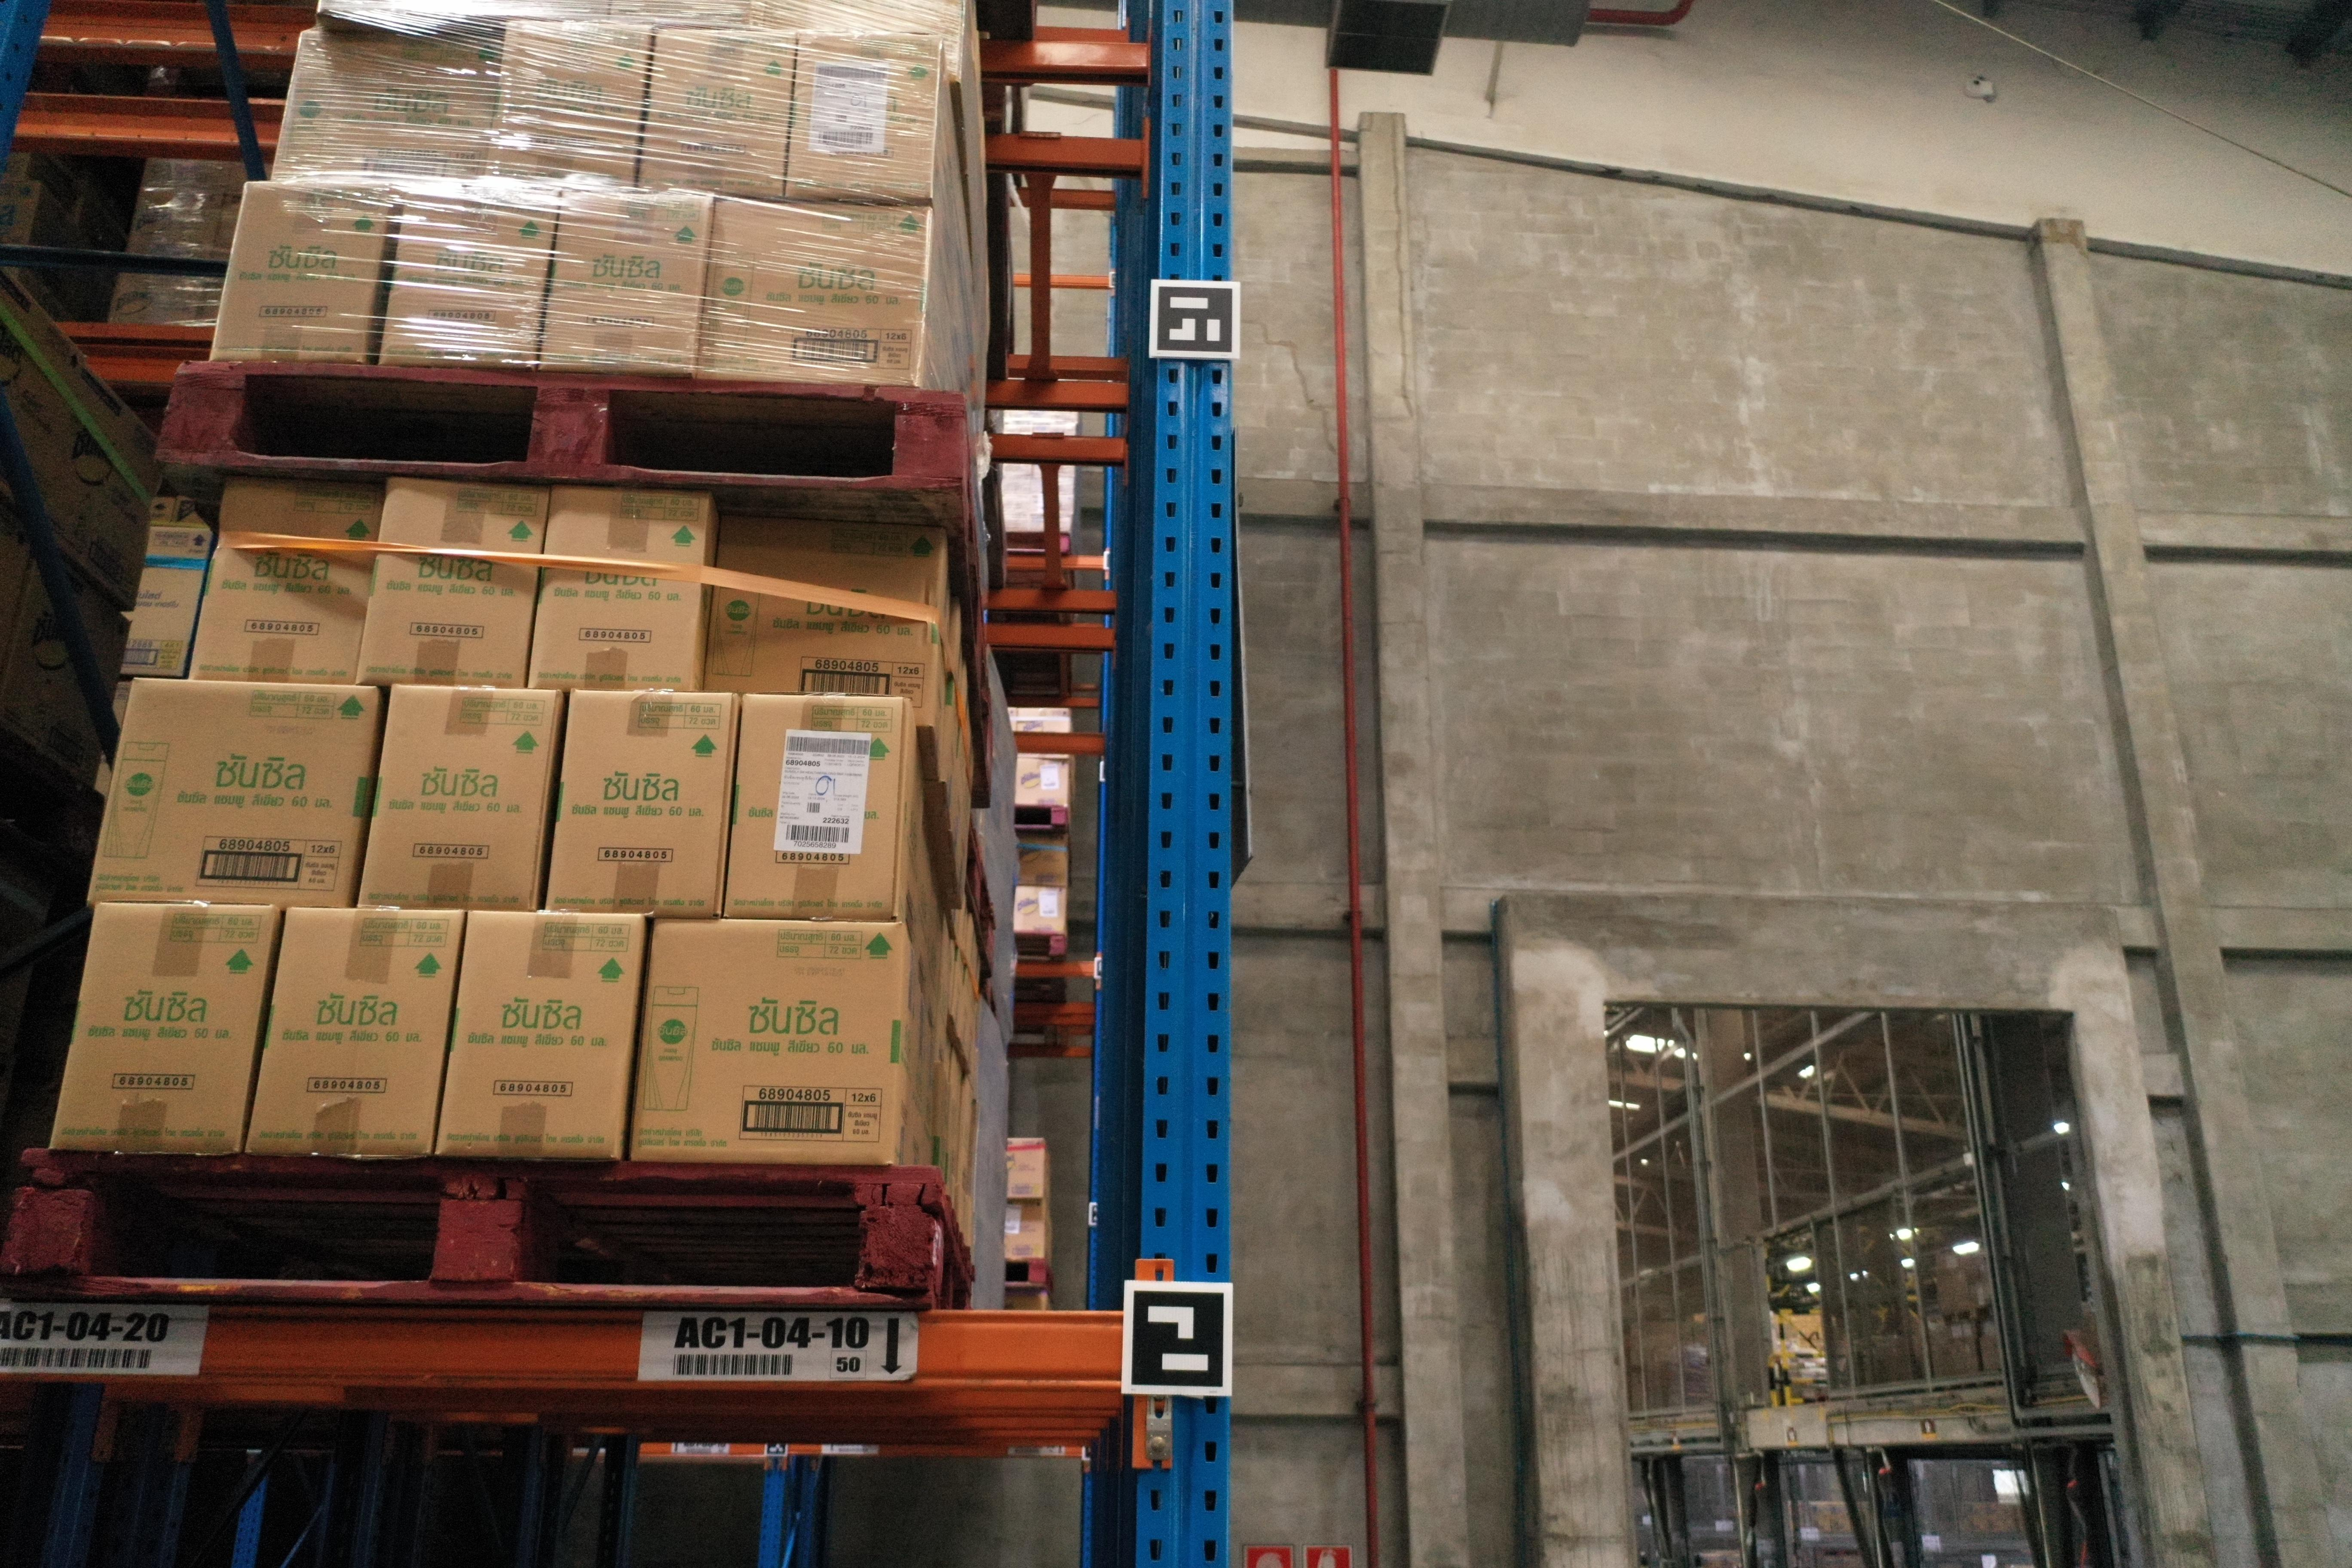-: (630, 917, 912, 1169), (82, 674, 376, 910), (49, 899, 276, 1155), (238, 906, 462, 1158), (432, 910, 647, 1162), (702, 513, 945, 723), (360, 682, 563, 913), (546, 689, 737, 919), (700, 196, 933, 383), (355, 474, 546, 693), (185, 479, 387, 682), (728, 693, 906, 920), (525, 485, 714, 689), (271, 26, 504, 184), (206, 178, 395, 362), (380, 180, 563, 366), (539, 189, 717, 373), (782, 31, 945, 205), (481, 28, 654, 189), (635, 30, 798, 198)
